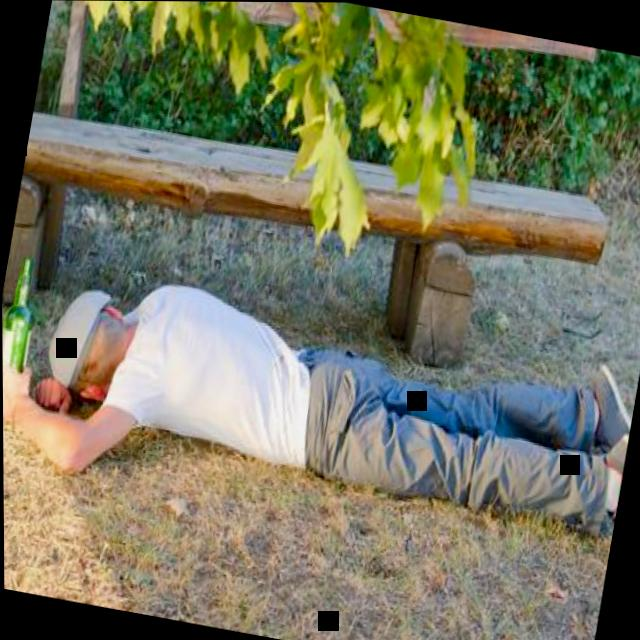Fall-Detected: (1, 253, 640, 562)
